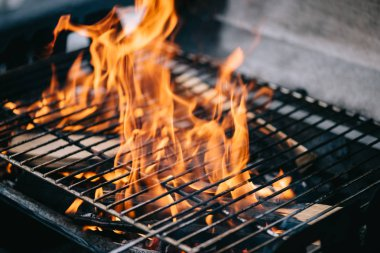fire: (58, 15, 263, 187)
